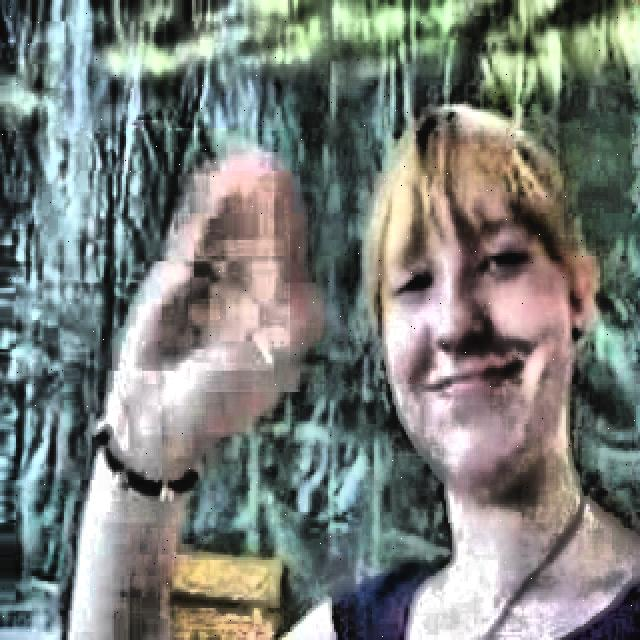T: (58, 110, 640, 635)
